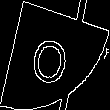O_N: (32, 25, 78, 86)
